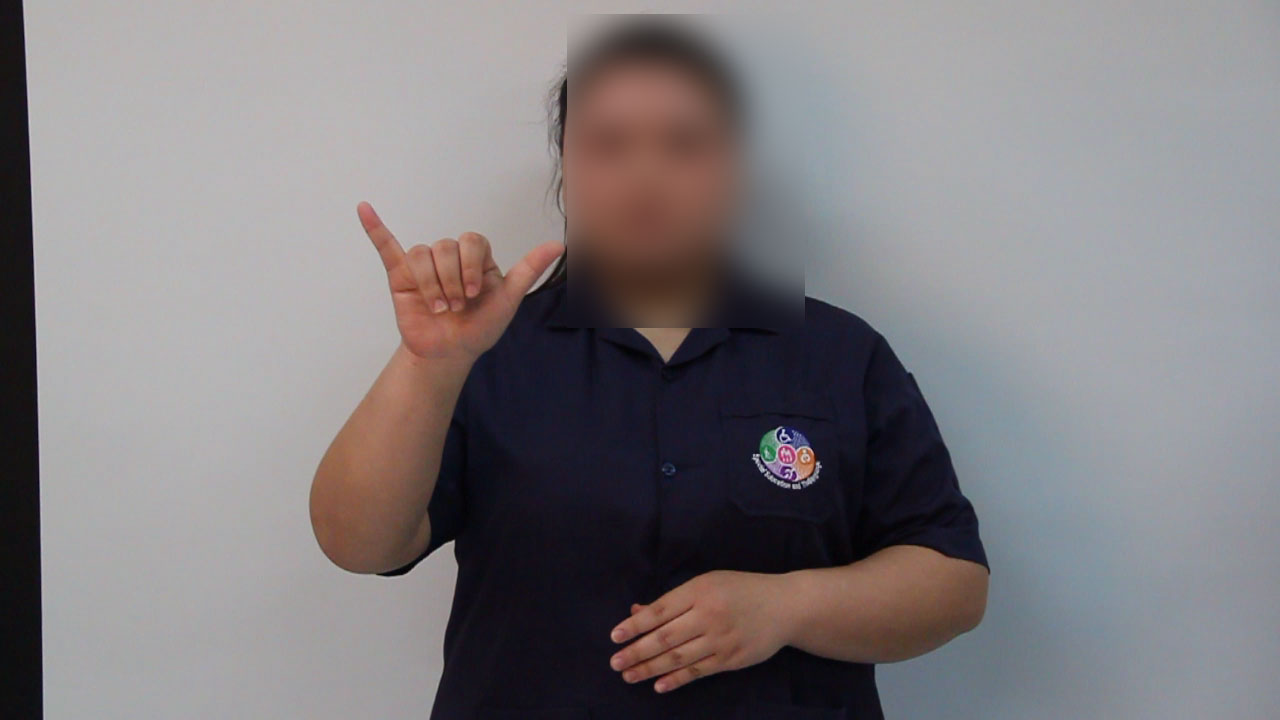yor: (319, 194, 592, 377)
